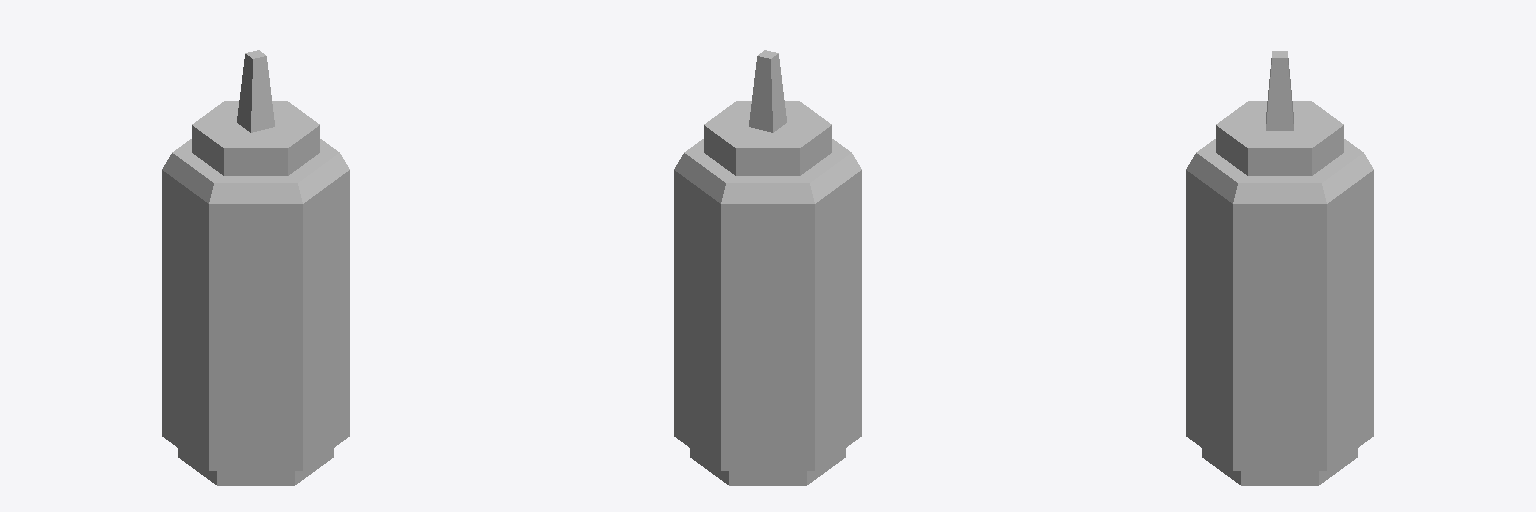
File: bottle-ketchup.obj
The picture shows the model from 3 angles: view 1: azimuth 30°, elevation 25°; view 2: azimuth 150°, elevation 25°; view 3: azimuth 270°, elevation 25°; orthographic projection.
Visible parts, largest first — view 1: bottle-ketchup; view 2: bottle-ketchup; view 3: bottle-ketchup.
Part boxes in pixels (x1,y1,x2,y2): bottle-ketchup: (162,50,349,485); bottle-ketchup: (674,50,861,485); bottle-ketchup: (1186,51,1373,485).
Bounding box in the file's own units: 0.1441 × 0.3931 × 0.1664.